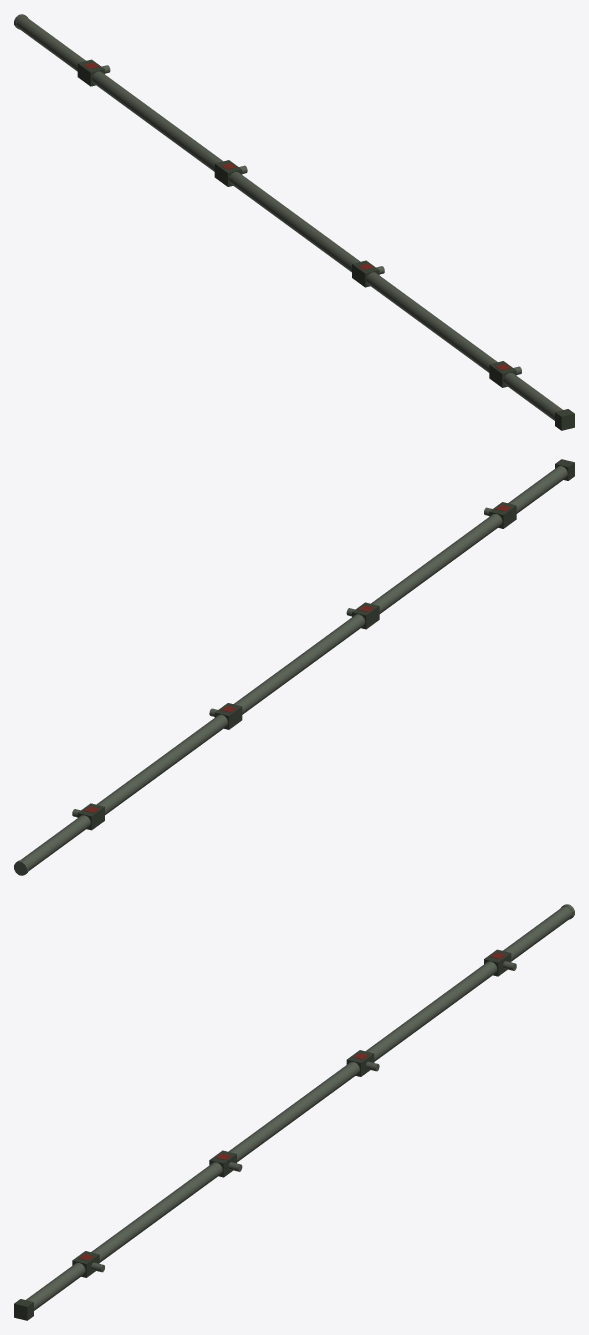
Rendered from rs50_manifold.obj.
3 renders of one model, top to bottom at view 1: azimuth 30°, elevation 25°; view 2: azimuth 150°, elevation 25°; view 3: azimuth 330°, elevation 25°, orthographic.
Visible parts, largest first — view 1: rs50_manifold; view 2: rs50_manifold; view 3: rs50_manifold.
Boxes of the visible parts, <box> form: rs50_manifold: <box>14,14,574,430</box>; rs50_manifold: <box>14,459,574,875</box>; rs50_manifold: <box>14,904,574,1320</box>.
Size of the model in its own units: 0.255 by 0.143 by 9.94.
